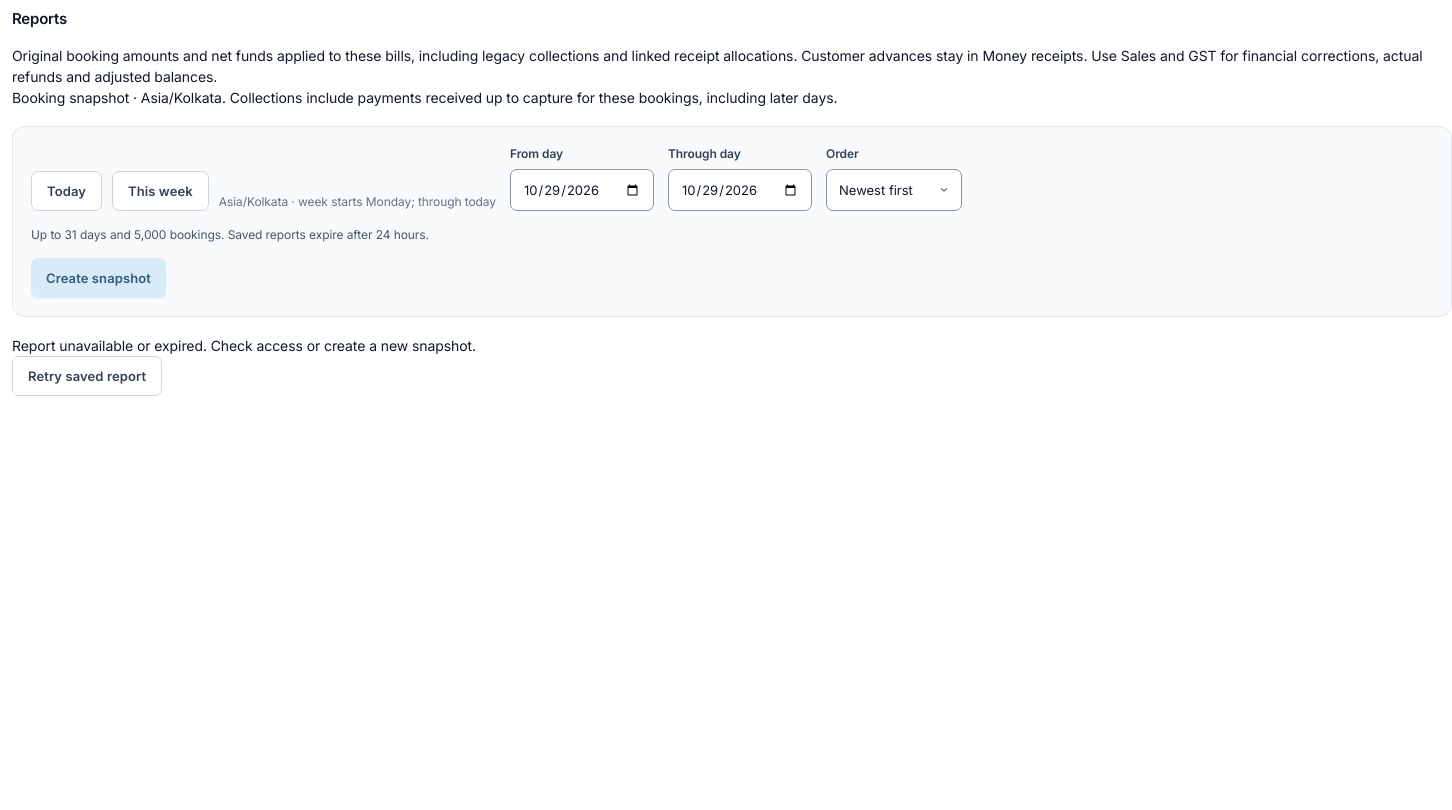
Test case: saved report screen › reload keeps snapshot identity, denies export without grant and shows safe expiry errors
Check: the text "Report unavailable or expired. Check access or create a new snapshot." is shown, box 12,337 -> 476,354
Click the button "Retry saved report": (87, 376) 12,356 -> 162,396
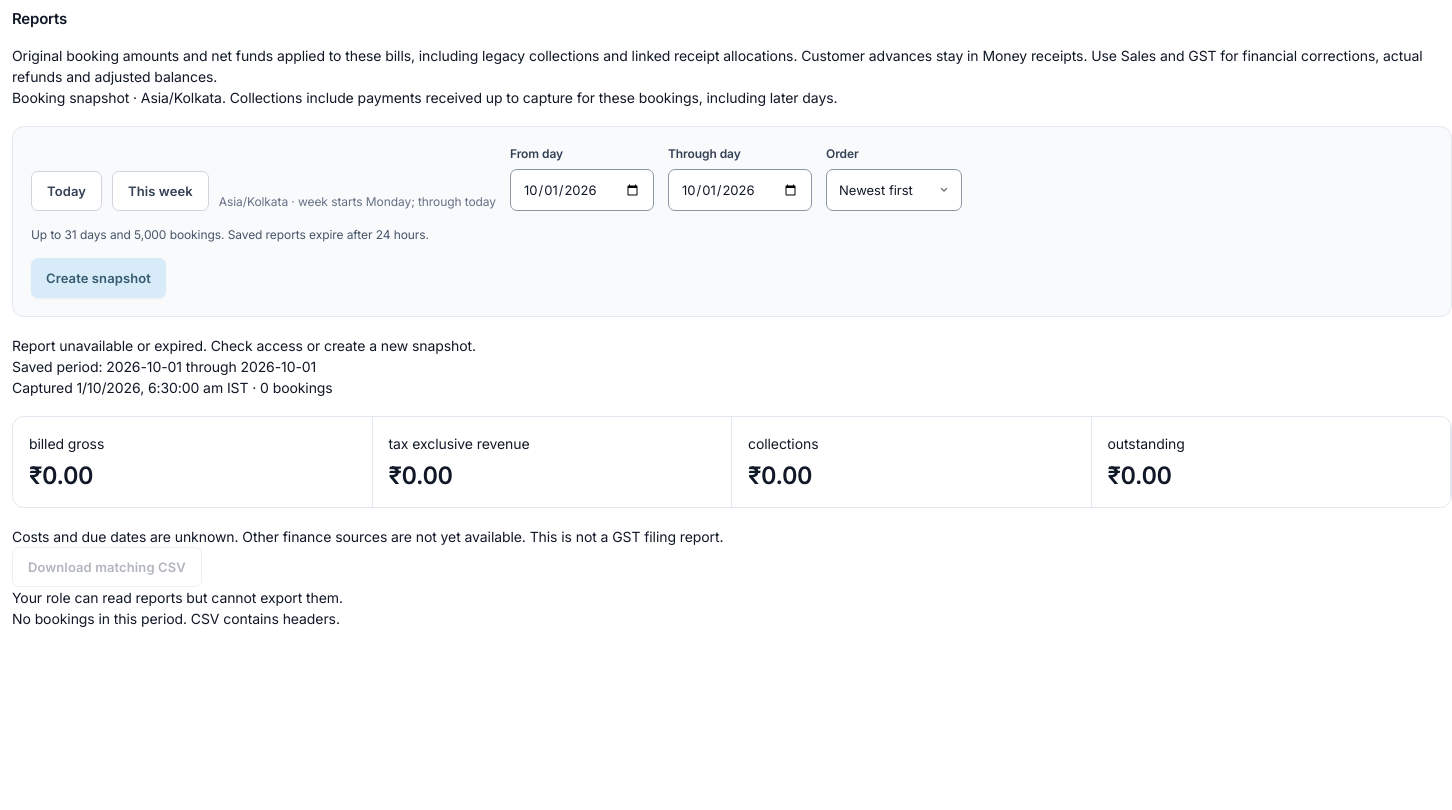
Check: the button "Download matching CSV" is disabled, box 12,547 -> 202,587
